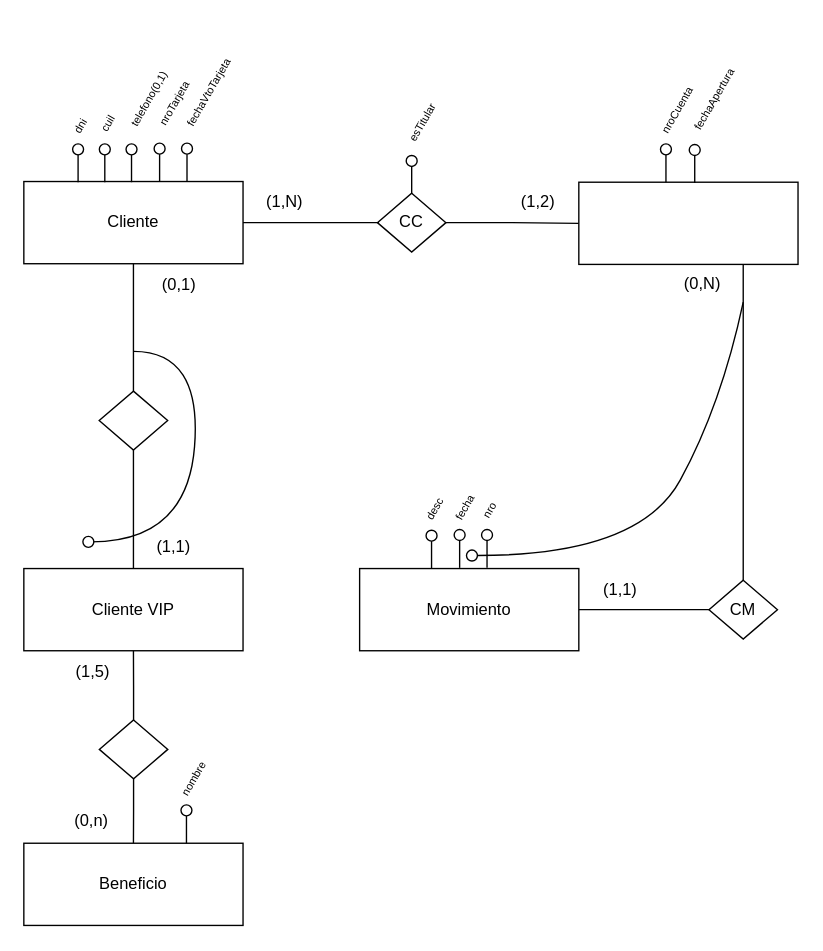
This 823x951 diagram has some shape labels left out. Each missing label, with the box of its shape:
ben_vip: (98, 719, 168, 779)
Cuenta: (577, 181, 798, 264)
es_un: (98, 390, 168, 450)
